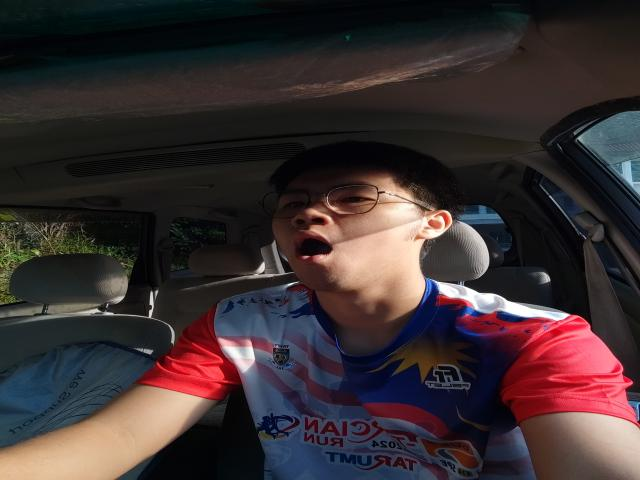eye_open: (276, 198, 310, 214), (333, 195, 378, 206)
face: (264, 174, 398, 293)
mouth_open: (286, 230, 338, 263)
